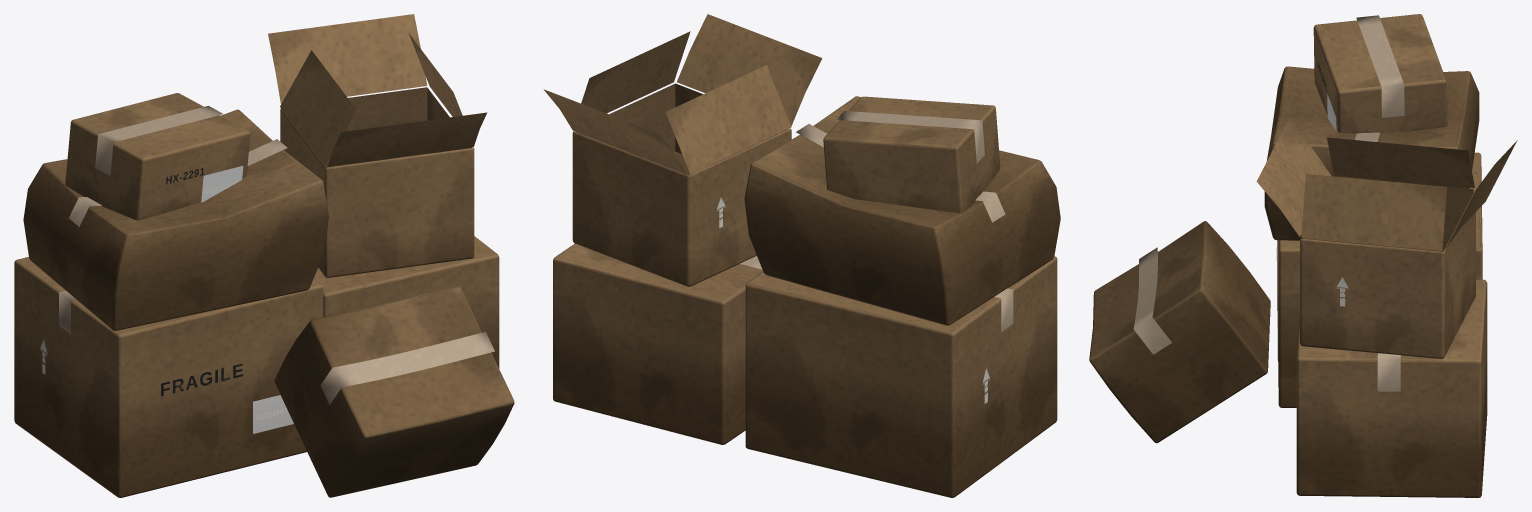
File: cardboard_boxes.glb
3 renders of one model, left to right at view 1: azimuth 30°, elevation 25°; view 2: azimuth 150°, elevation 25°; view 3: azimuth 270°, elevation 25°, orthographic. The views are drawn at different scales.
Visible parts, largest first — view 1: cardboard_boxes; view 2: cardboard_boxes; view 3: cardboard_boxes.
Part boxes in pixels (box(x1,y1,x2,y2)): cardboard_boxes: box(14, 14, 514, 497); cardboard_boxes: box(543, 14, 1060, 497); cardboard_boxes: box(1089, 14, 1517, 497).
Bounding box in the file's own units: 0.9837 × 0.7405 × 0.9246.
Materials: 8 (8 with a texture image).
